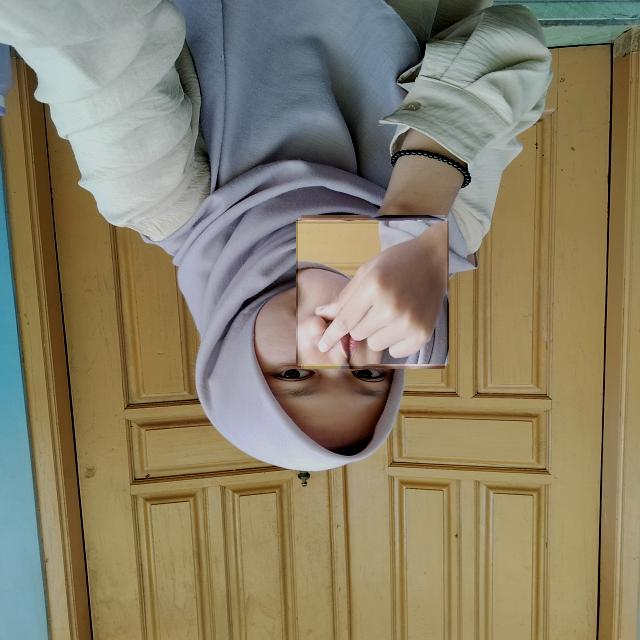bau: (298, 218, 447, 366)
